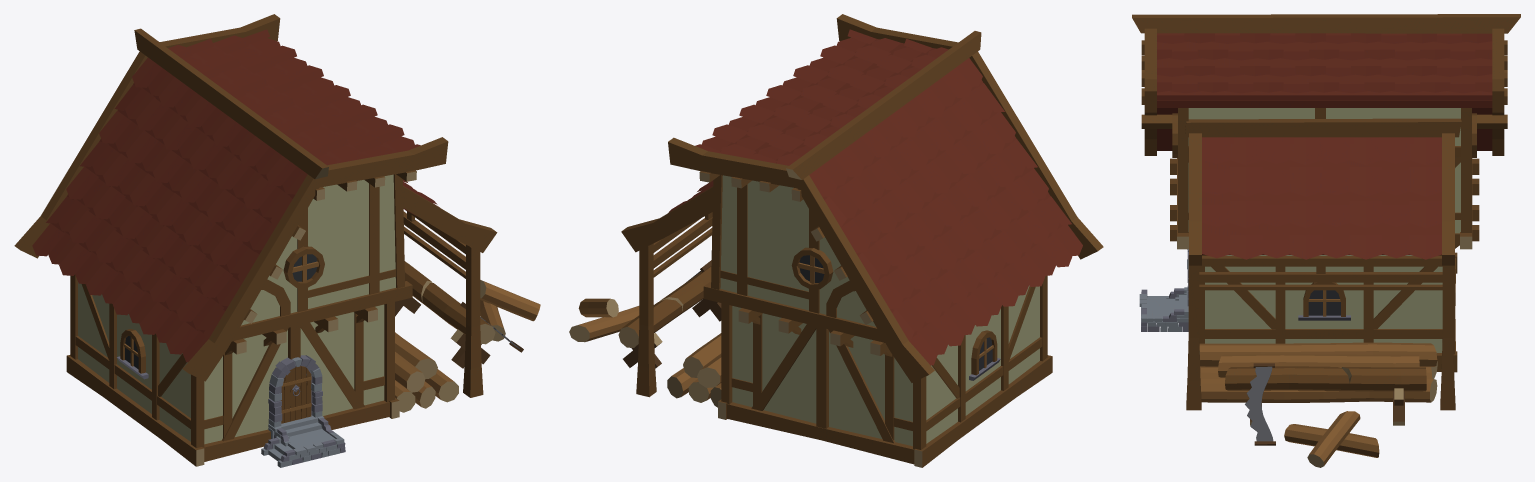
Rendered from fantasy-sawmill.glb.
3 views of the same model, side by side, from view 1: azimuth 30°, elevation 25°; view 2: azimuth 150°, elevation 25°; view 3: azimuth 270°, elevation 25° (orthographic). The views are drawn at different scales.
Parts seen in each view (by area): view 1: Sawmill; view 2: Sawmill; view 3: Sawmill.
Part boxes in pixels (box(x1,y1,x2,y2)): Sawmill: box(14, 14, 540, 467); Sawmill: box(569, 14, 1103, 467); Sawmill: box(1132, 14, 1520, 467).
Bounding box in the file's own units: 4.4 × 2.86 × 3.28.
Materials: 1 (1 with a texture image).
